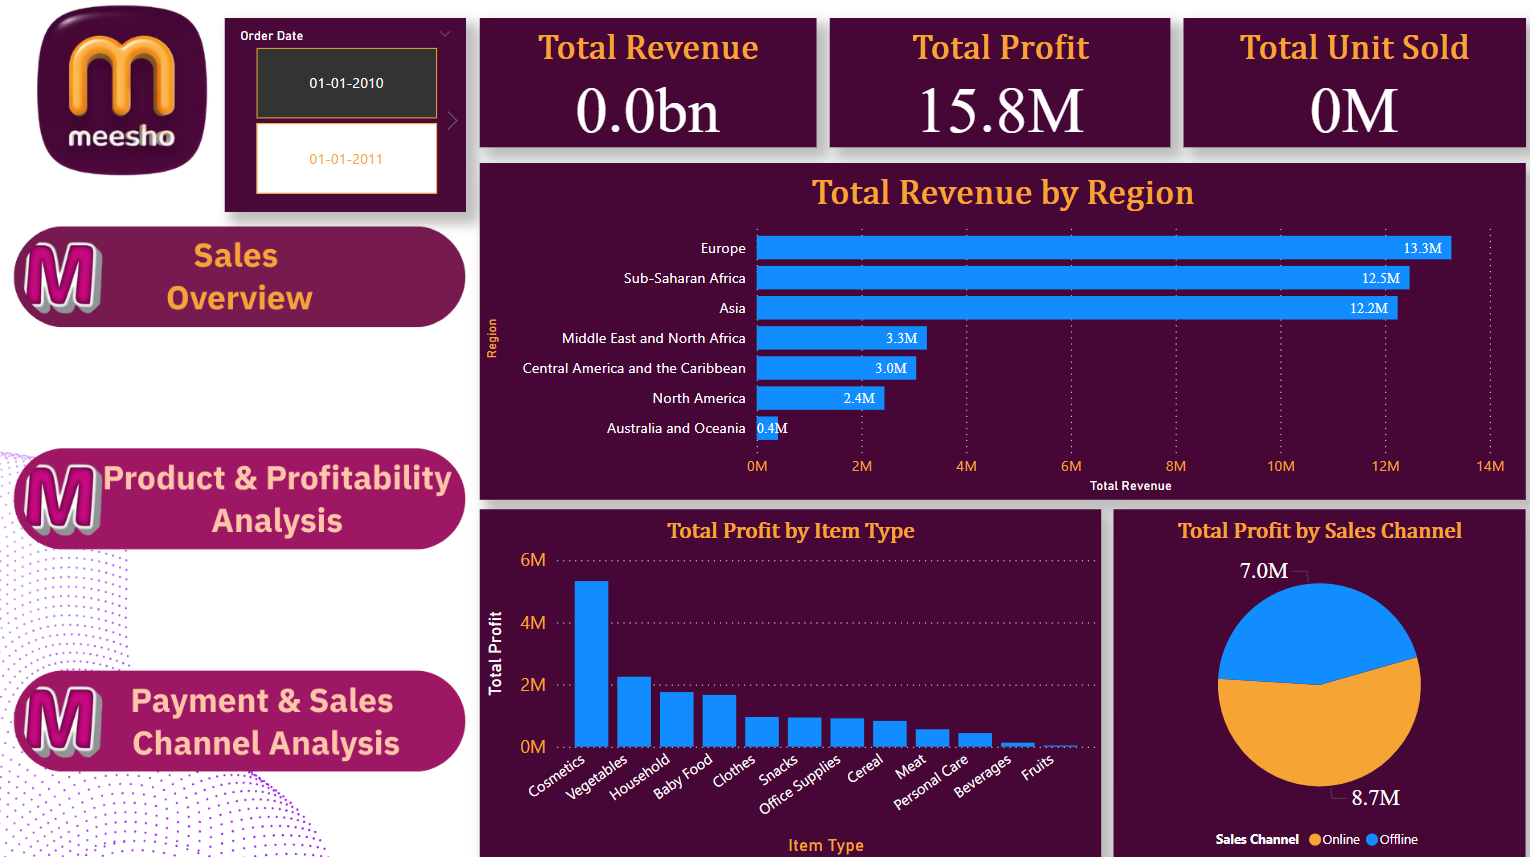

This screenshot's page, from the dashboard's own definition file:
{"tool":"powerbi","page":{"name":"Sales Overview","canvas":[1280,720],"ordinal":0},"visuals":[{"type":"actionButton","box":[14,193,375.6,86],"z":0},{"type":"actionButton","box":[14,376.7,375.6,86],"z":1000},{"type":"actionButton","box":[14,559.3,375.6,86],"z":2000},{"type":"card","title":"Total Revenue","fields":{"Values":["Sum(100000 Sales Records.Total Revenue)"]},"box":[401.2,20.9,279.1,107],"z":3000},{"type":"card","title":"Total Profit","fields":{"Values":["Sum(100000 Sales Records.Total Profit)"]},"box":[690.7,20.9,282.6,107],"z":4000},{"type":"card","title":"Total Unit Sold","fields":{"Values":["Sum(100000 Sales Records.Units Sold)"]},"box":[984.9,20.9,283.7,107],"z":5000},{"type":"barChart","title":"Total Revenue by Region","fields":{"Category":["100000 Sales Records.Region"],"Y":["Sum(100000 Sales Records.Total Revenue)"]},"box":[401.2,140.7,867.4,279.1],"z":6000},{"type":"columnChart","fields":{"Y":["Sum(100000 Sales Records.Total Profit)"],"Category":["100000 Sales Records.Item Type"]},"box":[401.2,427.9,515.1,291.9],"z":7000},{"type":"pieChart","fields":{"Category":["100000 Sales Records.Sales Channel"],"Y":["Sum(100000 Sales Records.Total Profit)"]},"box":[926.7,427.9,341.9,291.9],"z":8000},{"type":"slicer","fields":{"Values":["100000 Sales Records.Order Date"]},"box":[189.5,20.9,200,160.5],"z":9000}]}

Visuals, with their boxes in screenshot pixels (x1, y1, x2, y2), scaled from the page's 1280x720 canvas onto the 1530x857 screenshot:
actionButton: Rect(17, 230, 466, 332)
actionButton: Rect(17, 448, 466, 551)
actionButton: Rect(17, 666, 466, 768)
"Total Revenue" card: Rect(480, 25, 813, 152)
"Total Profit" card: Rect(826, 25, 1163, 152)
"Total Unit Sold" card: Rect(1177, 25, 1516, 152)
"Total Revenue by Region" barChart: Rect(480, 167, 1516, 500)
columnChart - Sum(100000 Sales Records.Total Profit) x 100000 Sales Records.Item Type: Rect(480, 509, 1095, 856)
pieChart - 100000 Sales Records.Sales Channel x Sum(100000 Sales Records.Total Profit): Rect(1108, 509, 1516, 856)
slicer - 100000 Sales Records.Order Date: Rect(227, 25, 466, 216)
